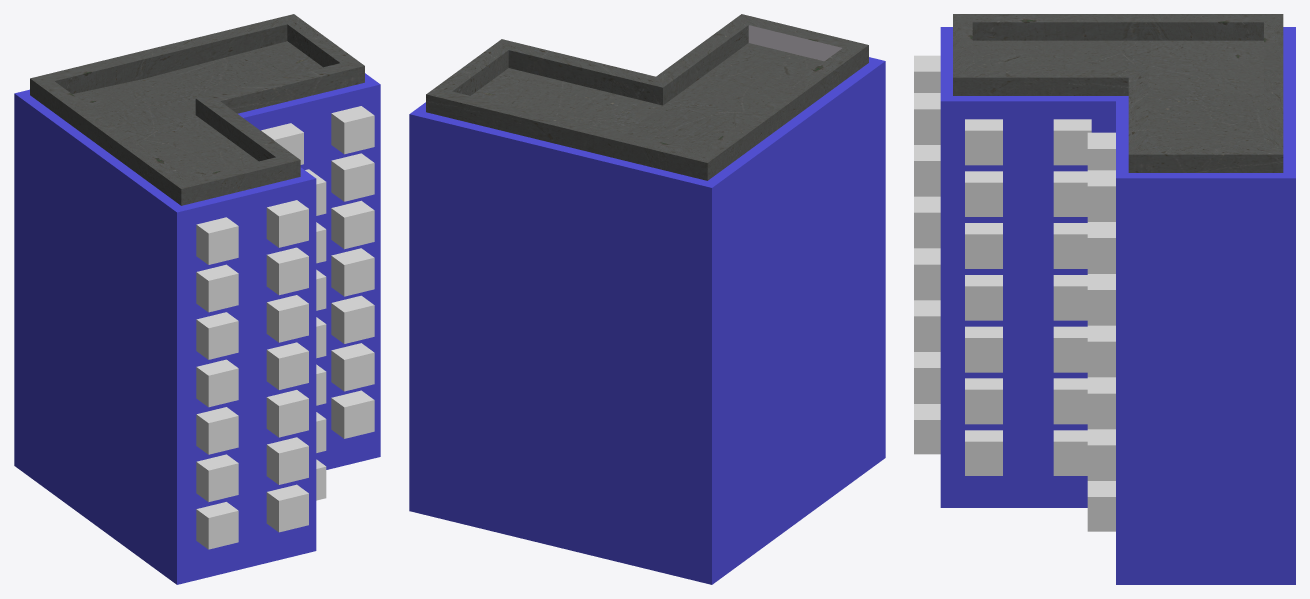
File: building.fbx
3 renders of one model, left to right at view 1: azimuth 30°, elevation 25°; view 2: azimuth 150°, elevation 25°; view 3: azimuth 270°, elevation 25°, orthographic. The views are drawn at different scales.
Visible parts, largest first — view 1: Cube, 立方体.002; view 2: Cube; view 3: Cube, 立方体.002.
Part boxes in pixels (bbox=[...]): Cube: bbox=[14, 14, 380, 584]; 立方体.002: bbox=[196, 106, 374, 549]; Cube: bbox=[409, 14, 885, 584]; Cube: bbox=[940, 14, 1295, 584]; 立方体.002: bbox=[914, 55, 1115, 531].
Size of the model in its own units: 408 by 534 by 435.
